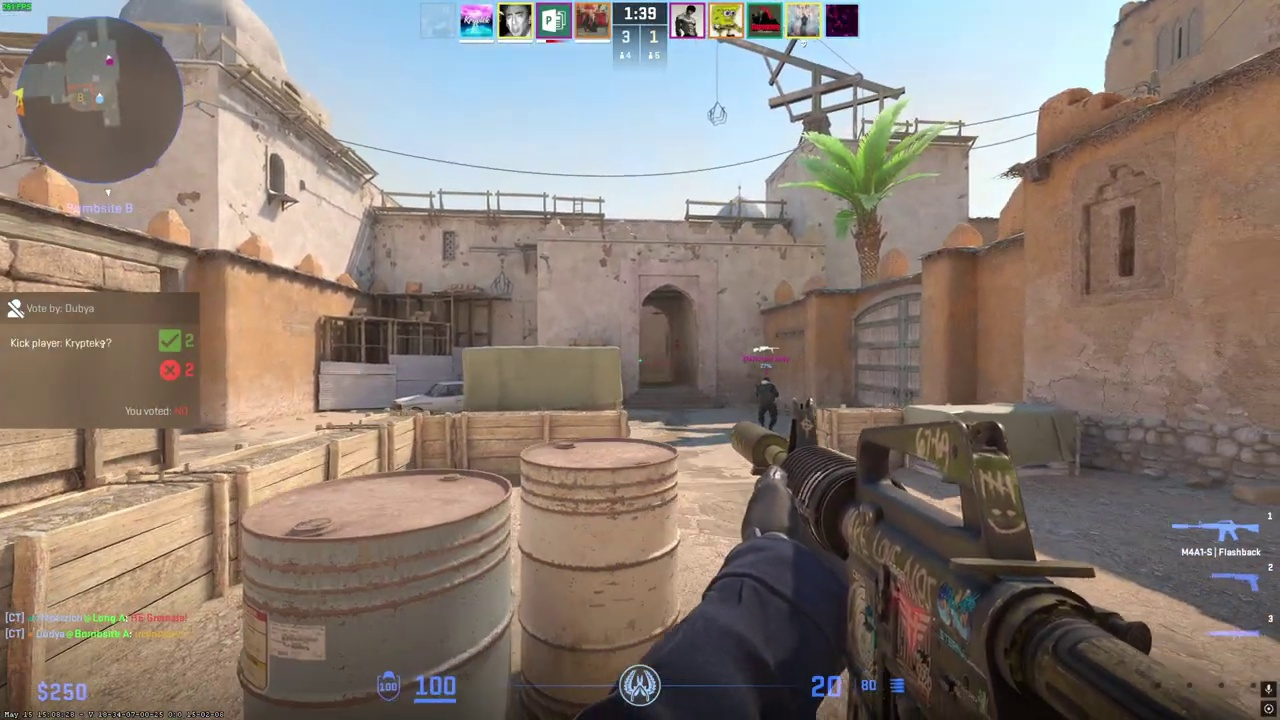CT: (756, 377, 779, 430)
